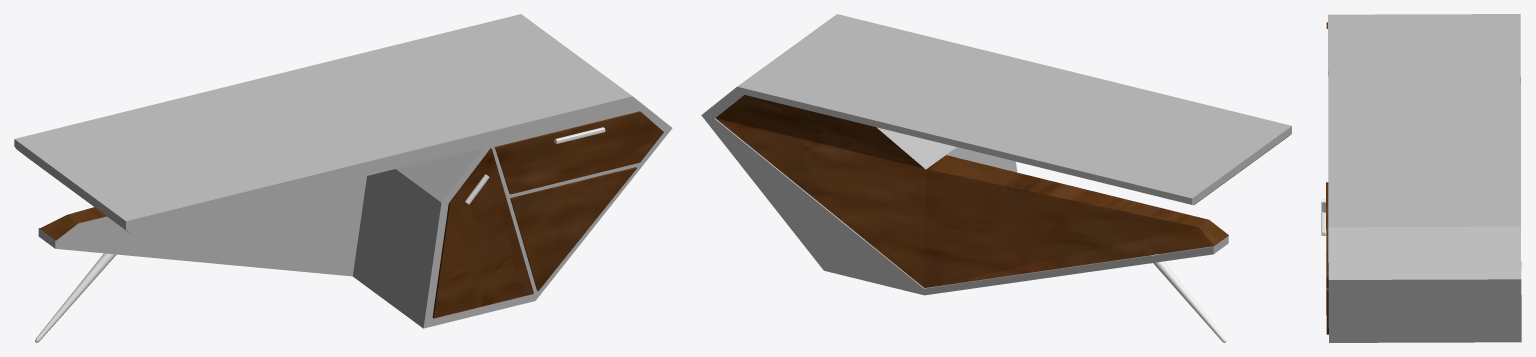
Rendered from onelegdesk.glb.
The picture shows the model from 3 angles, left to right: view 1: azimuth 30°, elevation 25°; view 2: azimuth 150°, elevation 25°; view 3: azimuth 270°, elevation 25°; orthographic projection. The views are drawn at different scales.
Visible parts, largest first — view 1: onelegdesk; view 2: onelegdesk; view 3: onelegdesk.
Part boxes in pixels (x1,y1,x2,y2): onelegdesk: [14, 14, 672, 342]; onelegdesk: [701, 14, 1291, 342]; onelegdesk: [1321, 14, 1521, 342].
Size of the model in its own units: 3.22 by 1.01 by 1.16.
Materials: 3 (3 with a texture image).
